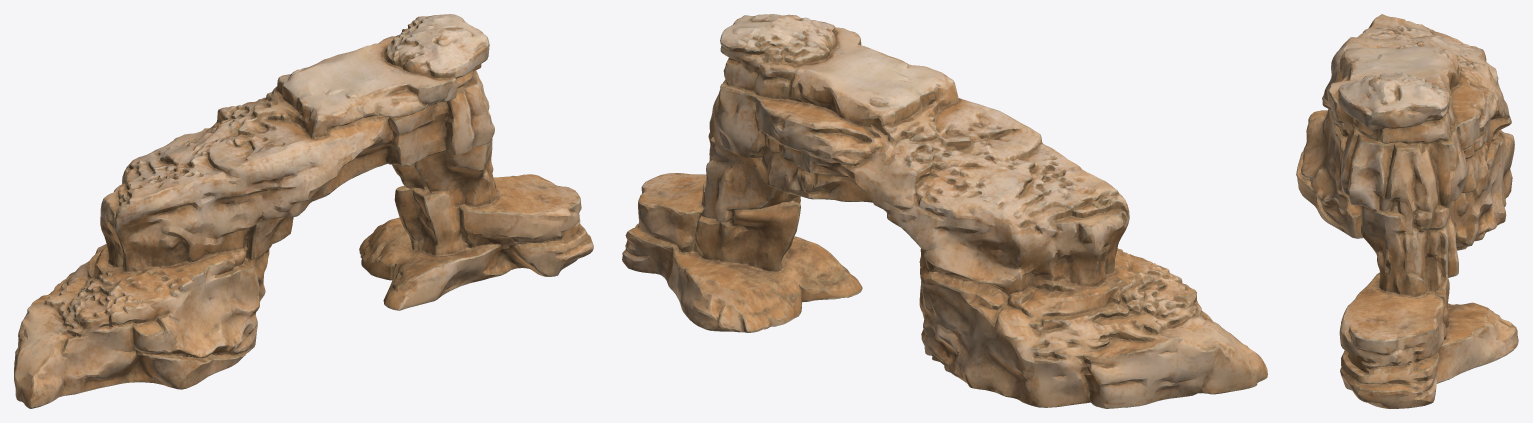
Rendered from sf_carved_cliff.glb.
3 renders of one model, left to right at view 1: azimuth 30°, elevation 25°; view 2: azimuth 150°, elevation 25°; view 3: azimuth 270°, elevation 25°, orthographic. The views are drawn at different scales.
Parts seen in each view (by area): view 1: sf_carved_cliff; view 2: sf_carved_cliff; view 3: sf_carved_cliff.
Part boxes in pixels (x1,y1,x2,y2): sf_carved_cliff: [14, 14, 593, 408]; sf_carved_cliff: [622, 14, 1267, 408]; sf_carved_cliff: [1296, 14, 1518, 408].
Bounding box in the file's own units: 35 × 14.65 × 11.32.
1 material, 1 textured.
